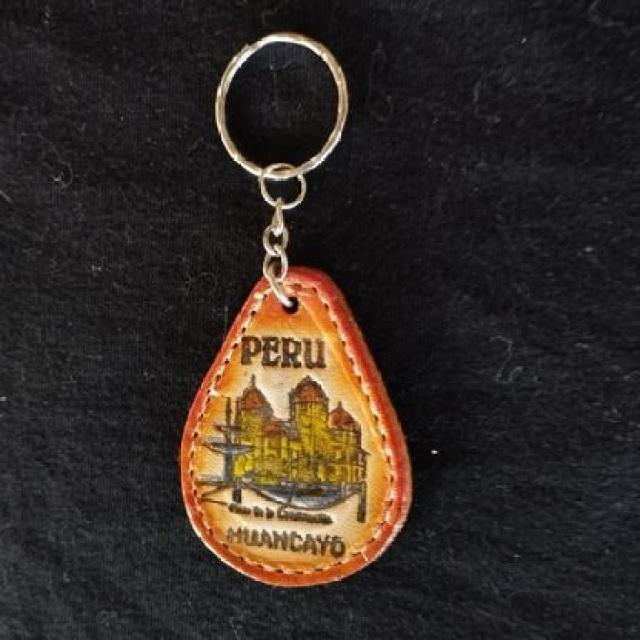Llavero: (177, 264, 414, 588)
